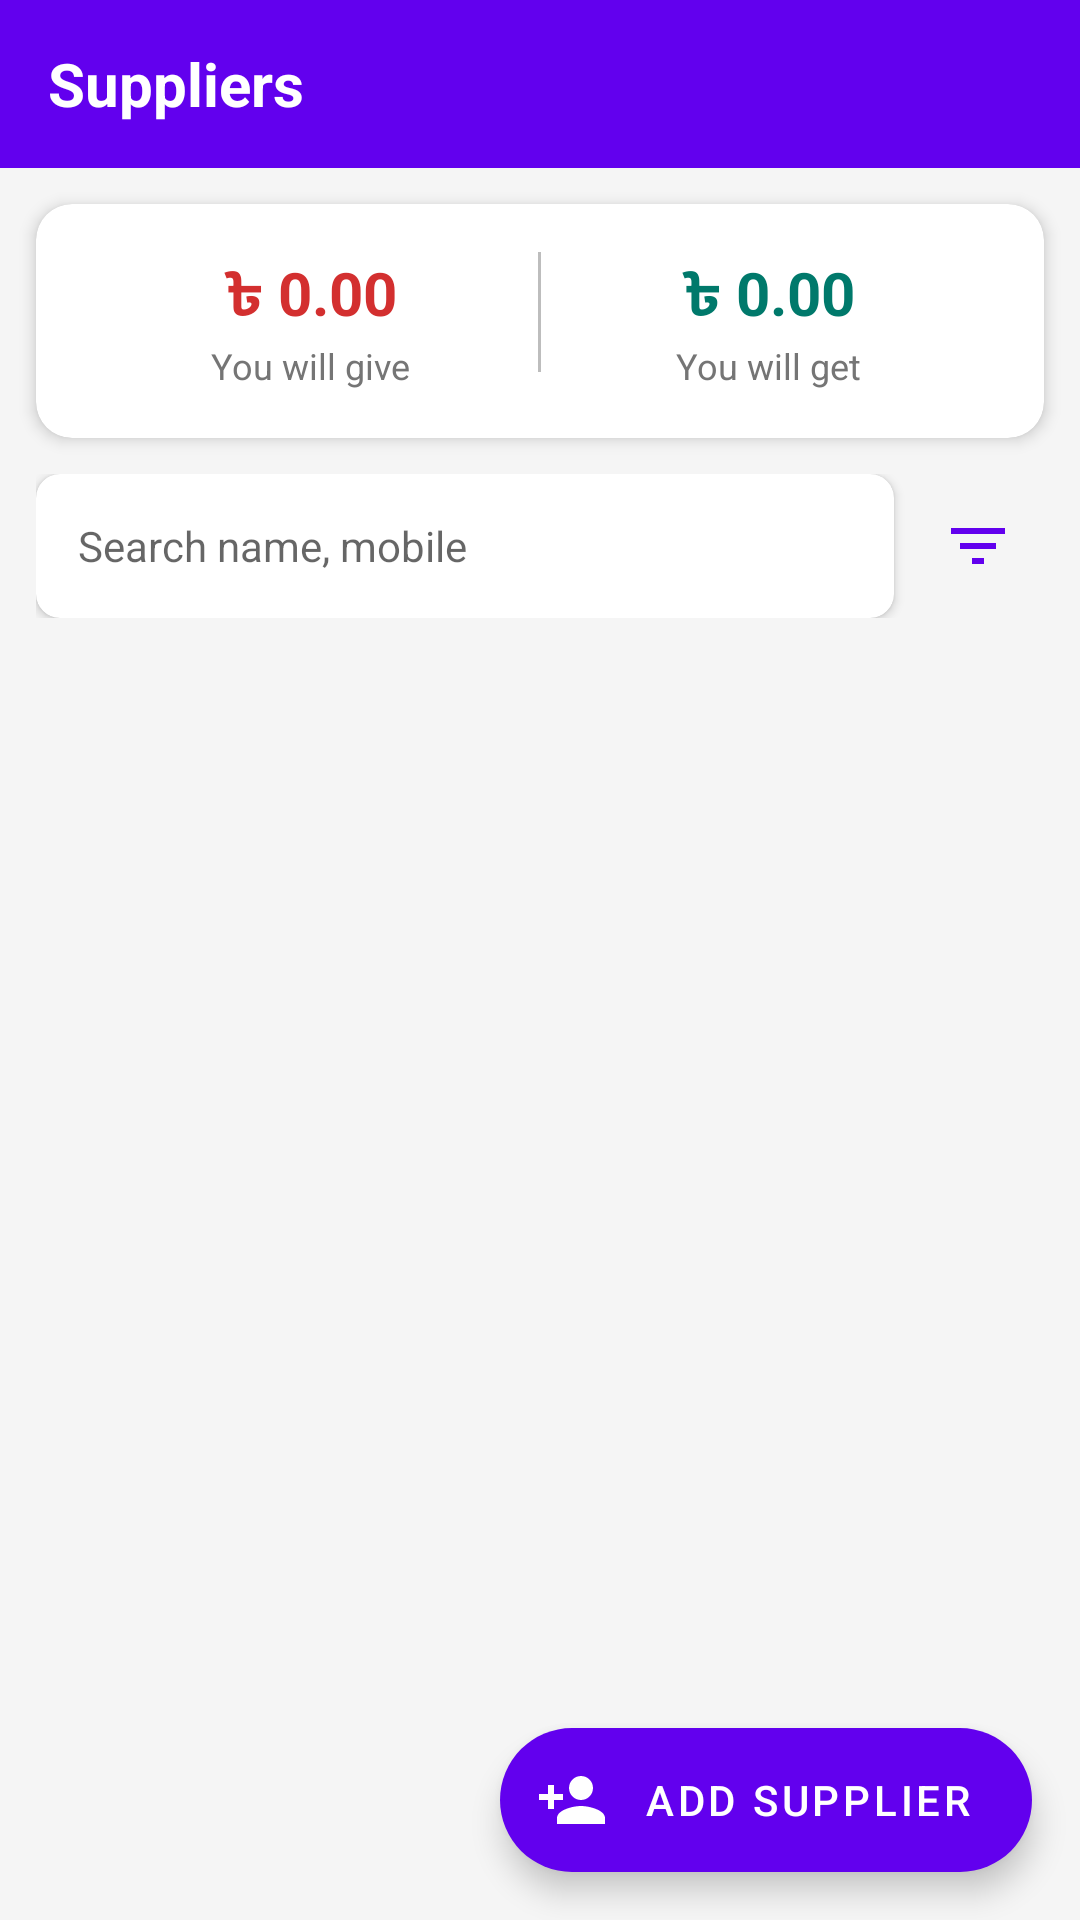

Screen size 1080px×1920px. Icon name, then its center in pixels as point (x, y):
filter: point (978, 546)
